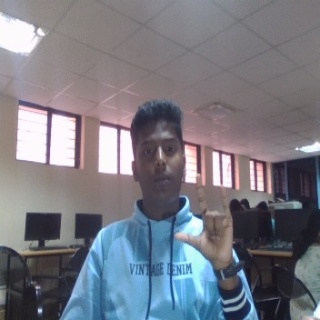Face: (129, 99, 187, 207)
I Love You: (172, 172, 238, 266)
